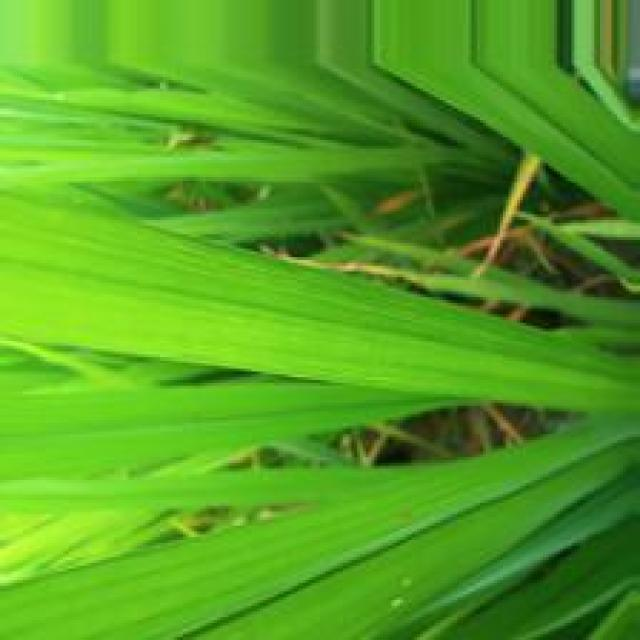HealthyLeaf: (101, 223, 549, 404)
